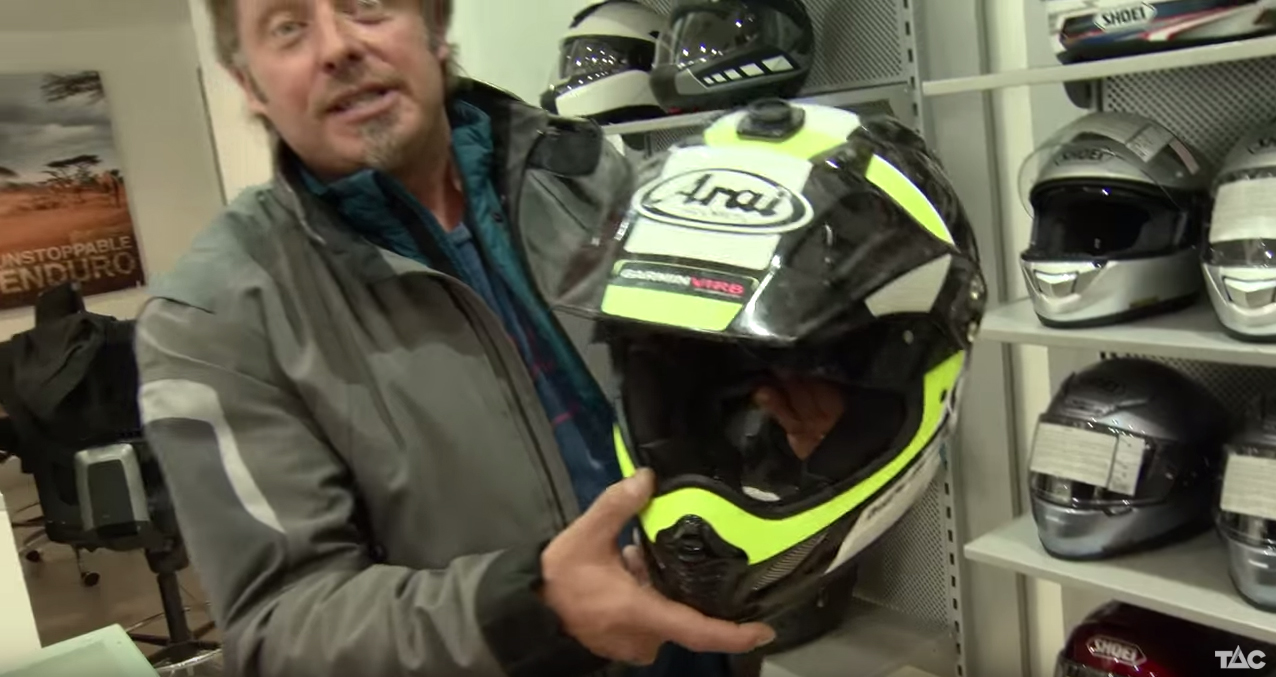with_helmet: (601, 110, 985, 612), (1028, 348, 1216, 569), (1012, 111, 1206, 324)
